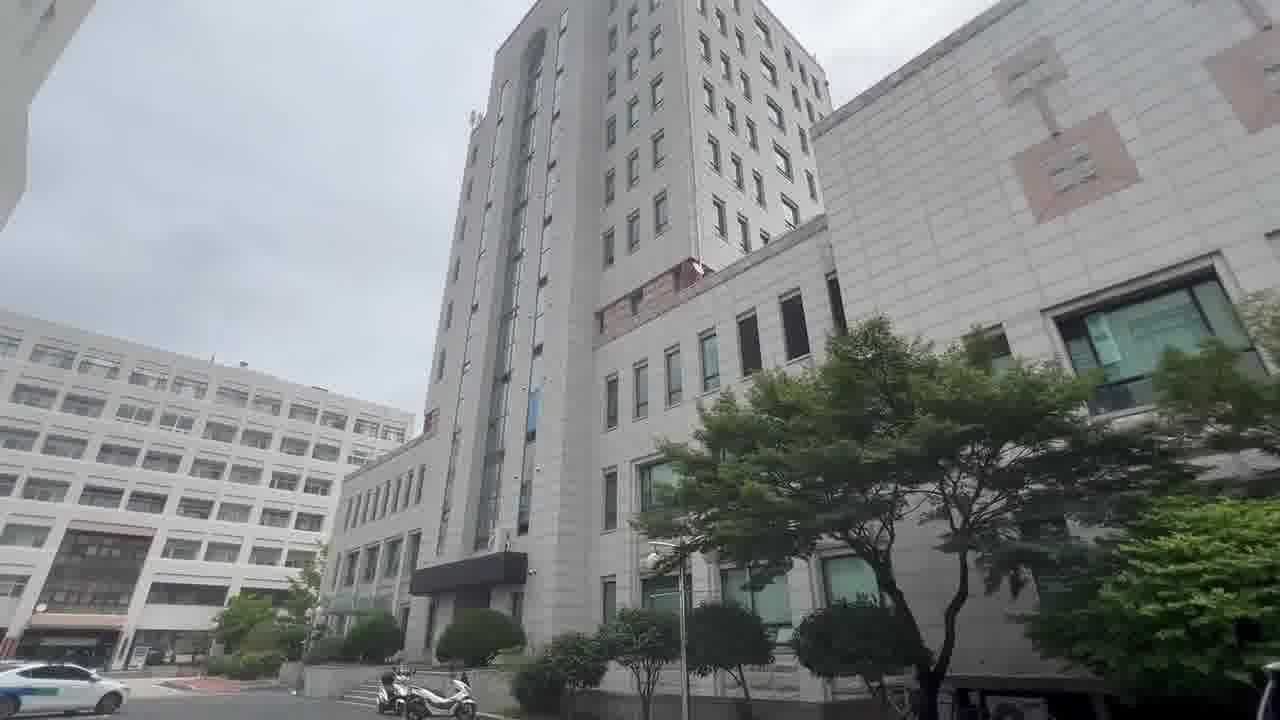building: (440, 0, 689, 540)
